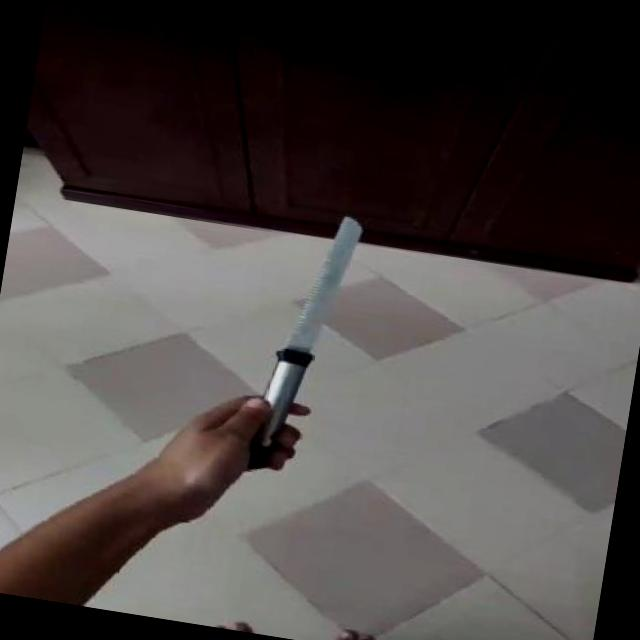knife: (258, 200, 380, 408)
